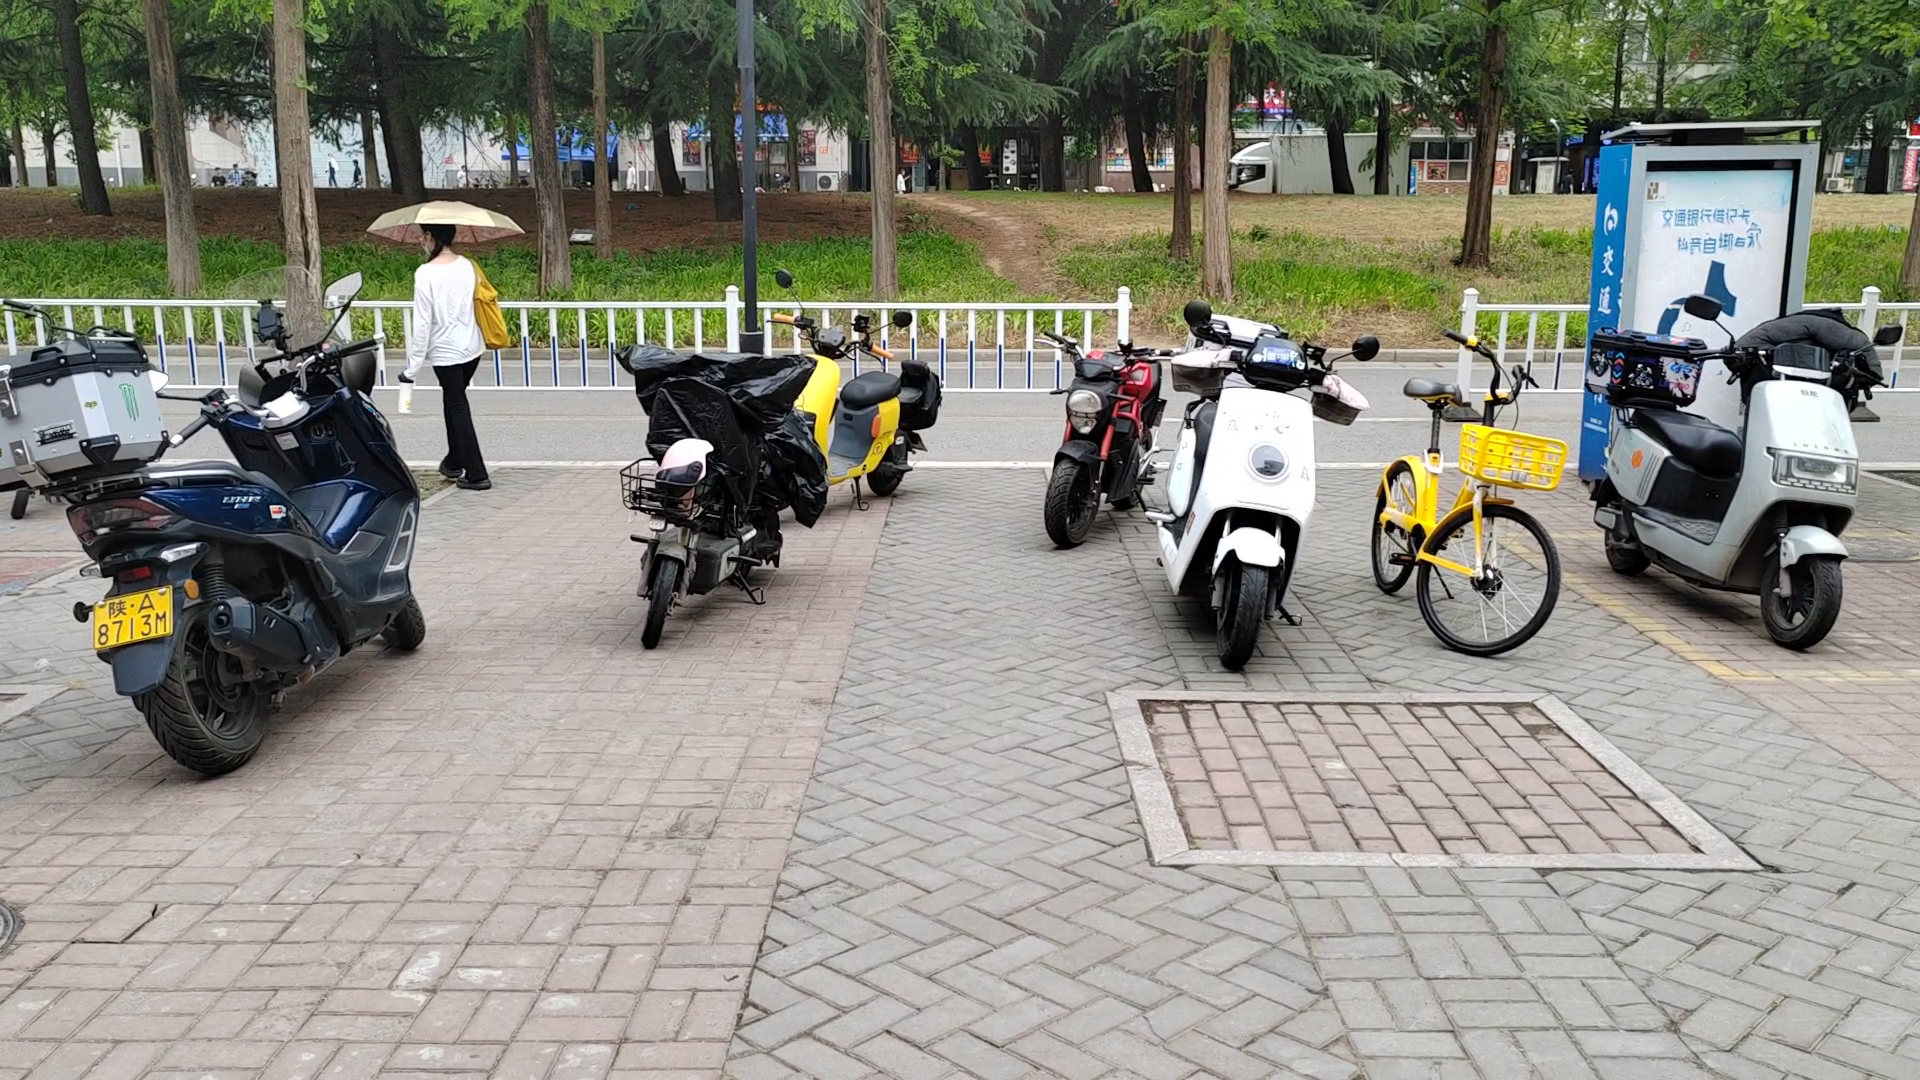others: (11, 320, 438, 742), (1578, 313, 1873, 642), (608, 324, 837, 622), (1167, 294, 1320, 669), (742, 268, 945, 527), (1044, 319, 1168, 560)
shared_bike_meituan: (1367, 313, 1542, 713)
